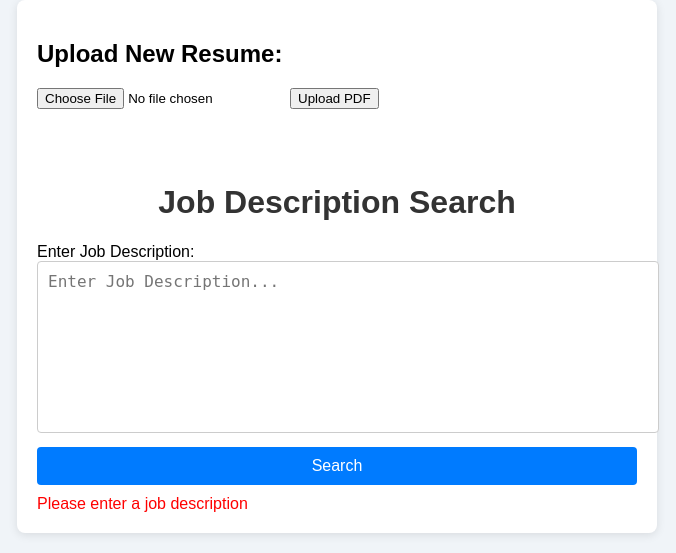
Test case: App Component › displays error message on search failure
Type "Software Engineer" into the text box labelled "Enter Job Description:" at [348, 347], box x1=37 y1=261 x2=659 y2=433
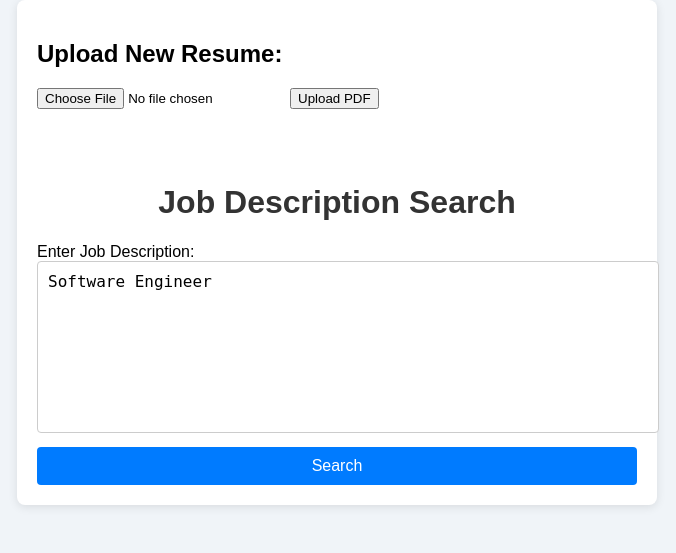
Click the button "Search" at [337, 466], box x1=37 y1=447 x2=637 y2=485
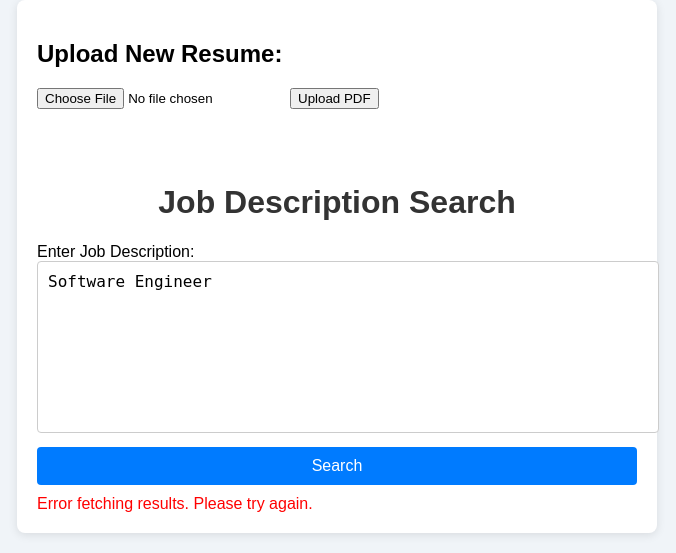
expect the text "Error fetching results. Please try again." is shown: met, box x1=37 y1=495 x2=313 y2=512
